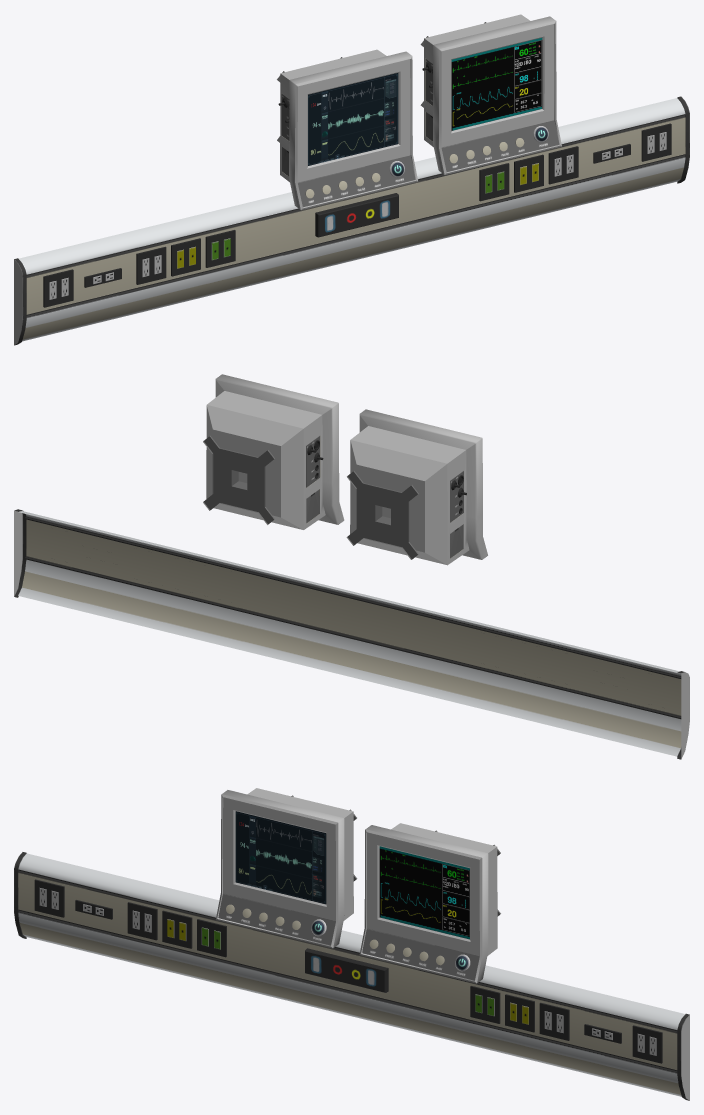
File: ECG Machine.fbx
The picture shows the model from 3 angles, top to bottom: view 1: azimuth 30°, elevation 25°; view 2: azimuth 150°, elevation 25°; view 3: azimuth 330°, elevation 25°; orthographic projection.
Visible parts, largest first — view 1: ECG_Machine; view 2: ECG_Machine; view 3: ECG_Machine.
Boxes of the visible parts, x1,y1,x2,y2 form: ECG_Machine: (14,14,689,345); ECG_Machine: (14,374,689,759); ECG_Machine: (14,788,689,1100).
Bounding box in the file's own units: 273 × 91.19 × 33.68.
